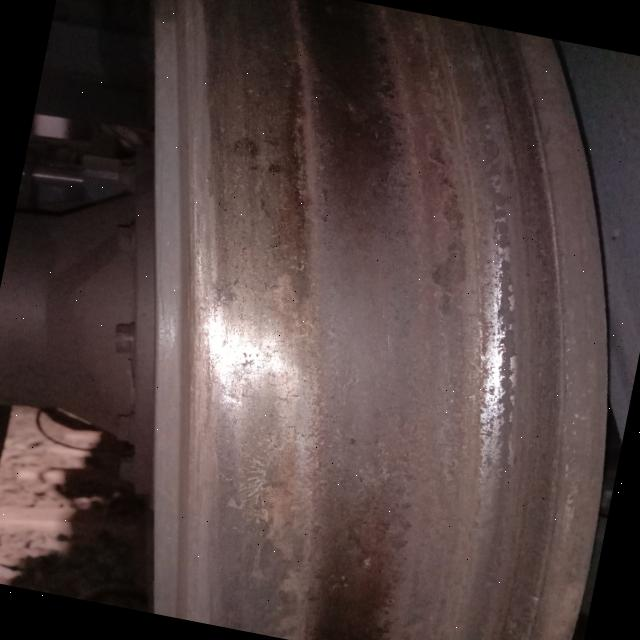flat: (264, 147, 465, 532)
